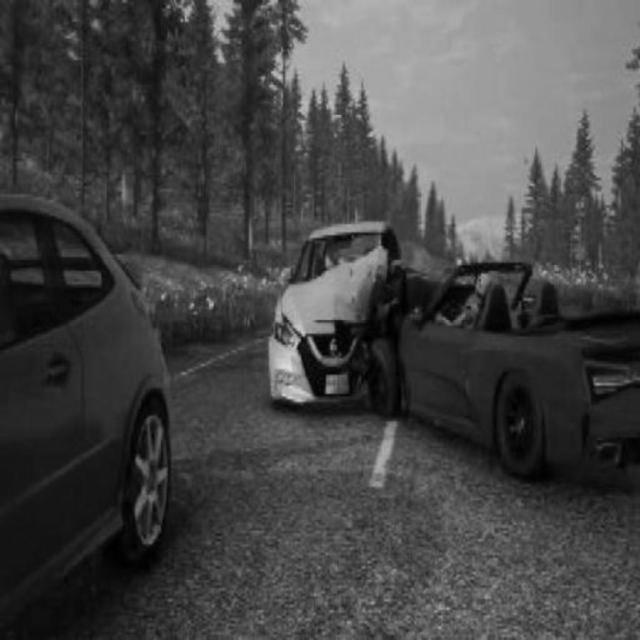accident: (267, 213, 631, 483)
vehicle: (2, 190, 176, 623)
